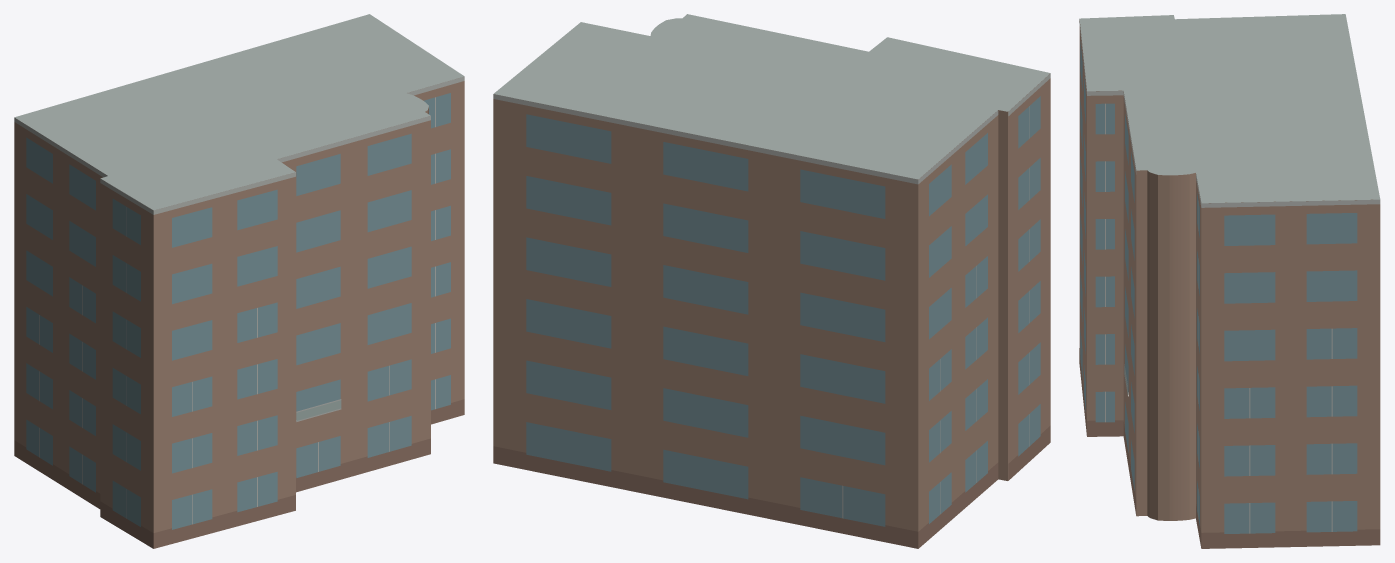
The model's file is survey-upis-32666820.glb.
3 renders of one model, left to right at view 1: azimuth 30°, elevation 25°; view 2: azimuth 150°, elevation 25°; view 3: azimuth 270°, elevation 25°, orthographic. The views are drawn at different scales.
Parts seen in each view (by area): view 1: survey-upis-32666820.tmp; view 2: survey-upis-32666820.tmp; view 3: survey-upis-32666820.tmp.
Boxes of the visible parts, left/top/right/bottom form: survey-upis-32666820.tmp: left=14, top=14, right=464, bottom=548; survey-upis-32666820.tmp: left=493, top=14, right=1050, bottom=548; survey-upis-32666820.tmp: left=1079, top=14, right=1380, bottom=548.
Bounding box in the file's own units: 21.5 × 18.3 × 14.44.
